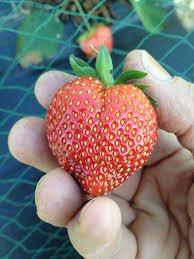ripe: (43, 76, 163, 198)
